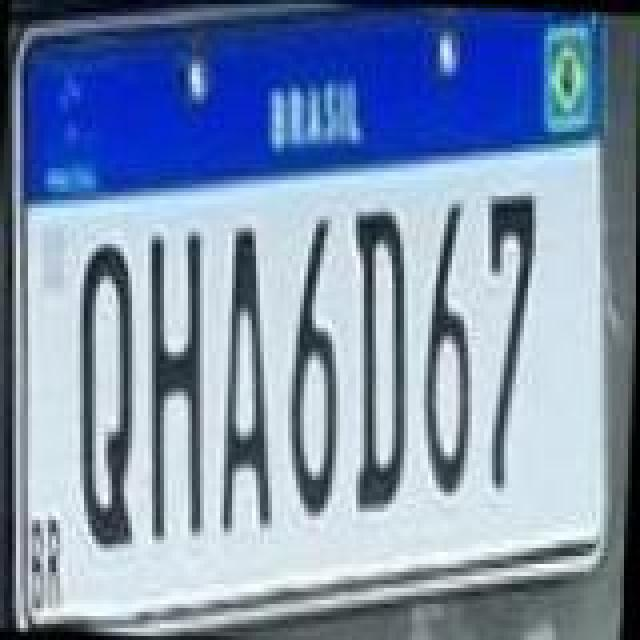6: (282, 210, 350, 522), (418, 196, 486, 504)
7: (474, 184, 542, 492)
A: (216, 218, 288, 538)
D: (340, 208, 420, 516)
H: (138, 228, 222, 544)
Q: (66, 234, 150, 550)
